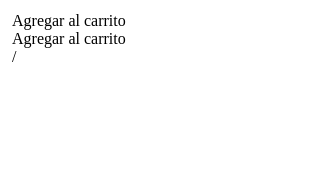
Test case: AddToCart › keeps the error on the card that failed when another card succeeds
This screenshot has width=332, height=172.
Click the button with aria-label "Agregar al carrito: Echo". click: (69, 21)
box: [12,12,126,30]
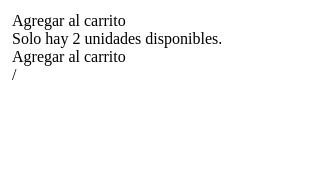
Check: the message reads "Solo hay 2 unidades disponibles.", box [12,30,222,47]
Click the button with aria-label "Agregar al carrito: Flux". click: (69, 57)
box: [12,48,126,66]
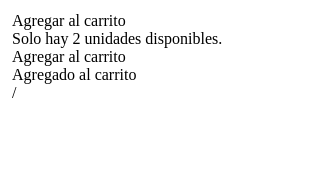
Check: the message "Solo hay 2 unidades disponibles." is shown, box [12,30,222,48]
Check: the text "Agregado al carrito" is shown, box [12,66,136,84]
